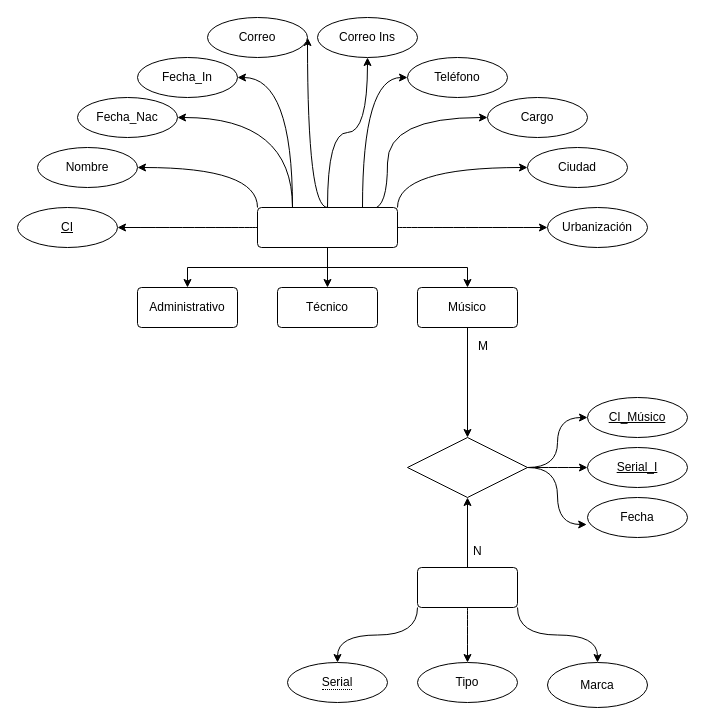
Some shapes in this 705 by 725 pixel diagram are drawn without their labels. Here are the shapes that lost their labels. From the top down, the centre of each, then its label:
At point (327, 227): "Persona".
At point (467, 467): "Asigna".
At point (467, 587): "Instrumento".
